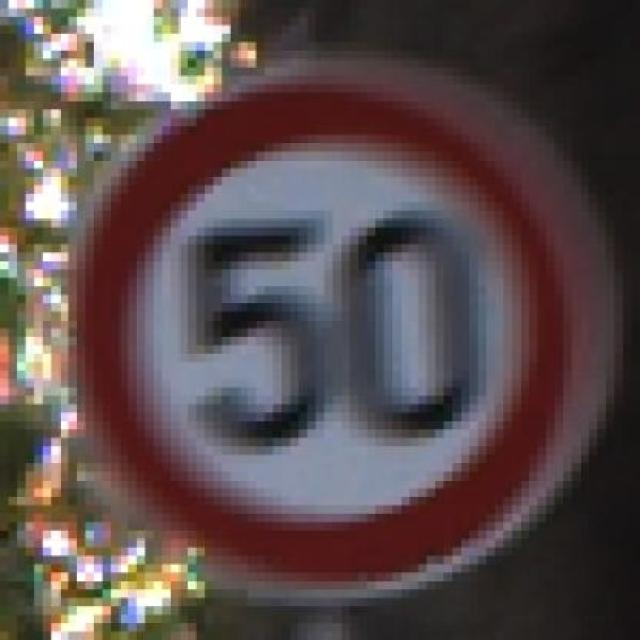forb_speed_over_50: (77, 70, 577, 595)
